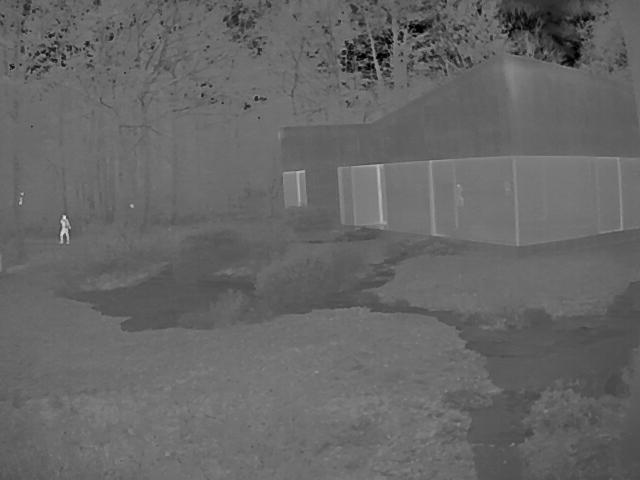person: (58, 215, 72, 244)
